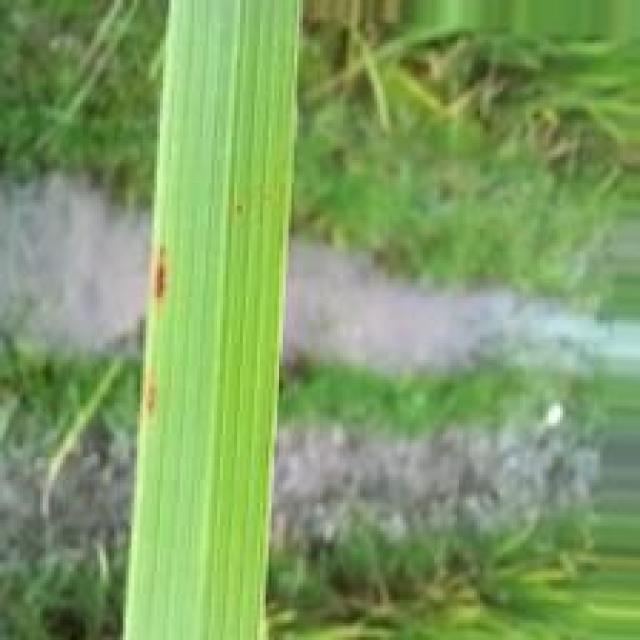Brown_Spot: (149, 239, 172, 310), (142, 361, 160, 418)
